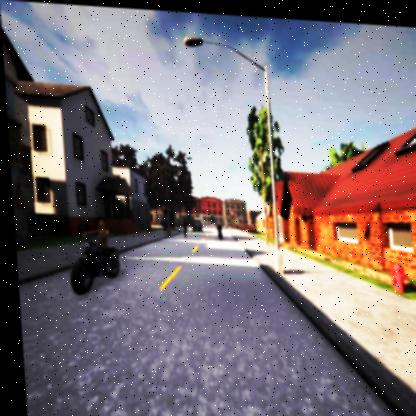motobike: (65, 212, 119, 297)
